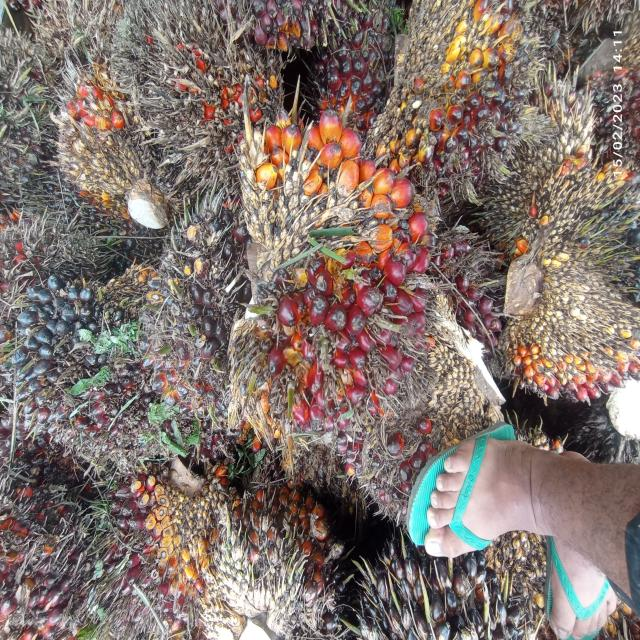fraksi 00: (0, 268, 192, 476), (135, 168, 244, 410)
fraksi 1: (316, 0, 526, 191)
fraksi 3: (181, 107, 458, 430)
fraksi 4: (22, 3, 310, 187)
